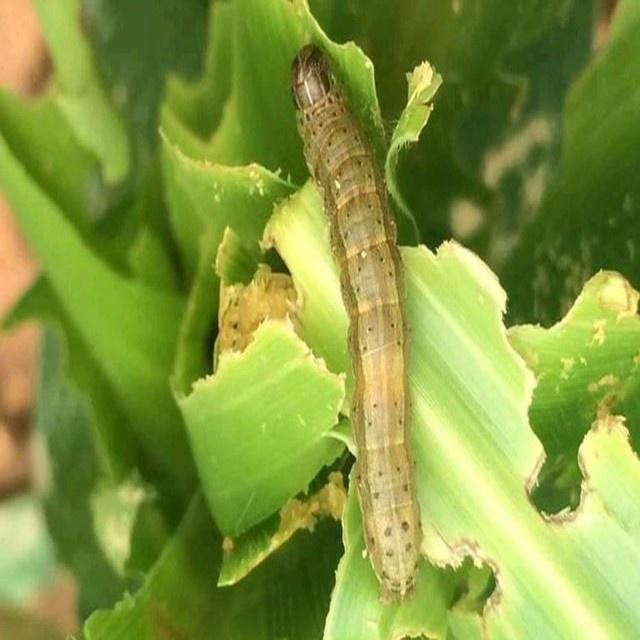gusano_cogollero: (290, 50, 417, 590), (426, 528, 438, 558)
